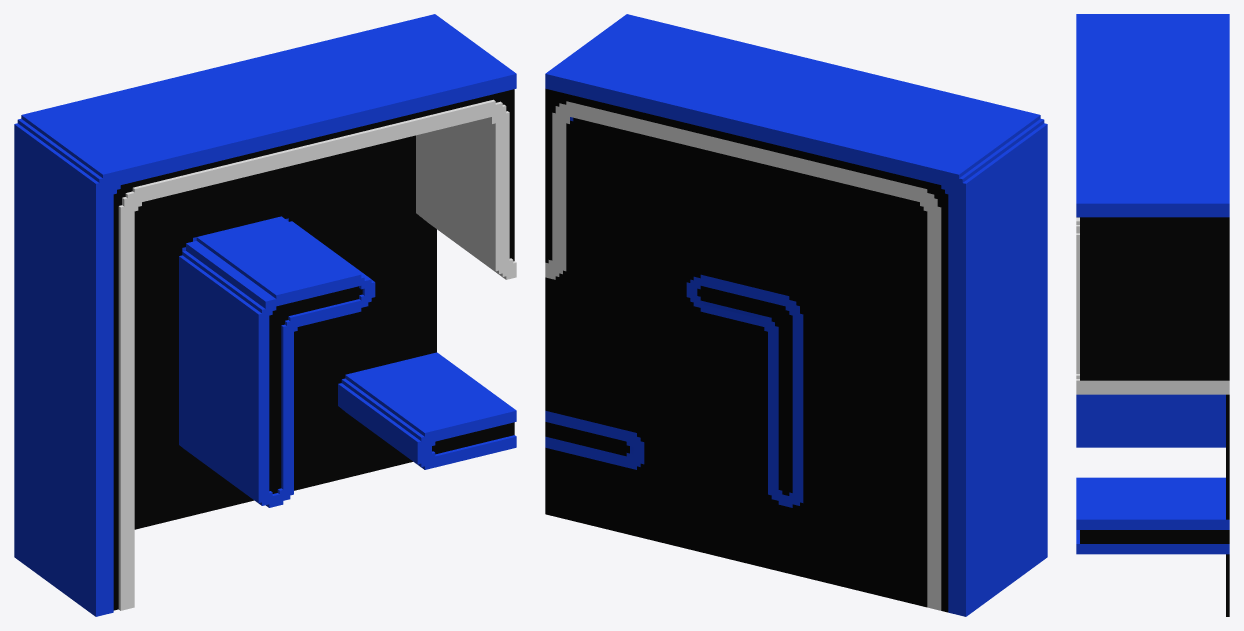
Rendered from Pac1-1.obj.
The picture shows the model from 3 angles, left to right: view 1: azimuth 30°, elevation 25°; view 2: azimuth 150°, elevation 25°; view 3: azimuth 270°, elevation 25°; orthographic projection. The views are drawn at different scales.
Size of the model in its own units: 11.9 by 11.9 by 4.
Materials: 1 (1 with a texture image).
